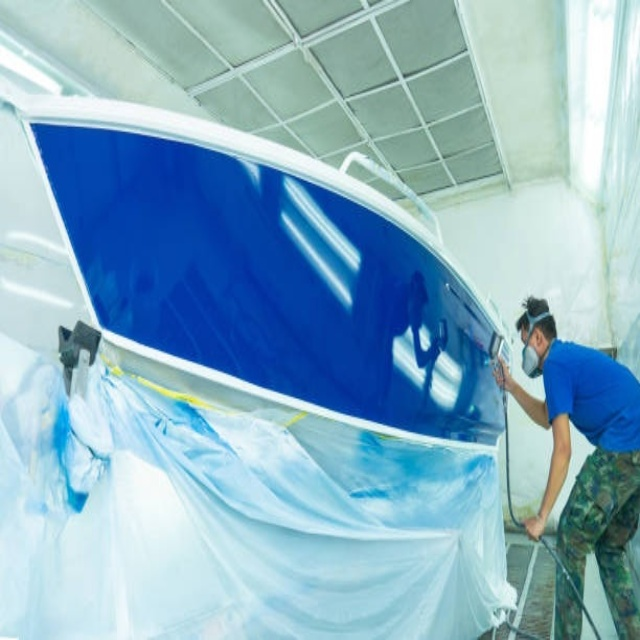Mascara: (521, 338, 543, 378)
Sin_guantes: (491, 356, 512, 392), (524, 512, 544, 545)
